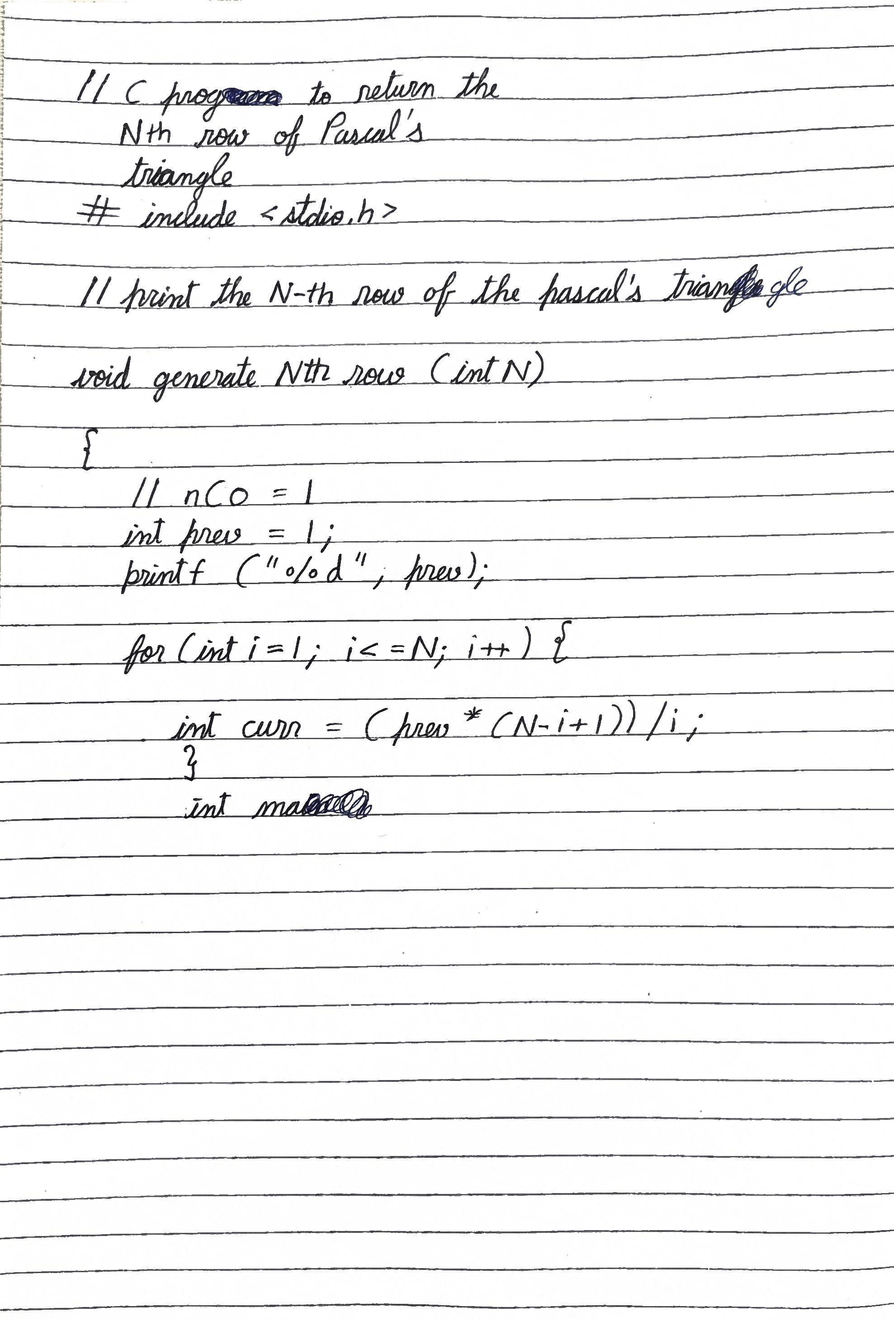cuttings: (155, 80, 284, 123), (253, 787, 373, 823), (723, 262, 766, 315)
